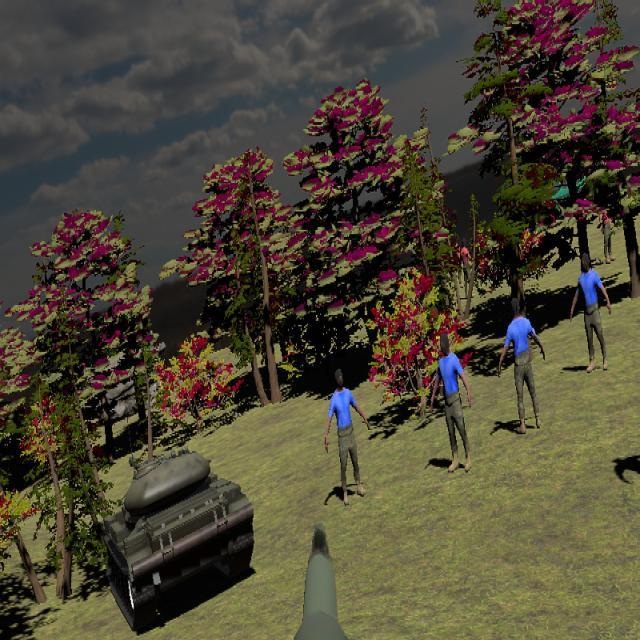Human: (498, 296, 545, 434), (429, 330, 472, 474), (325, 369, 370, 506), (569, 252, 612, 372)
Tank: (101, 448, 256, 634)
